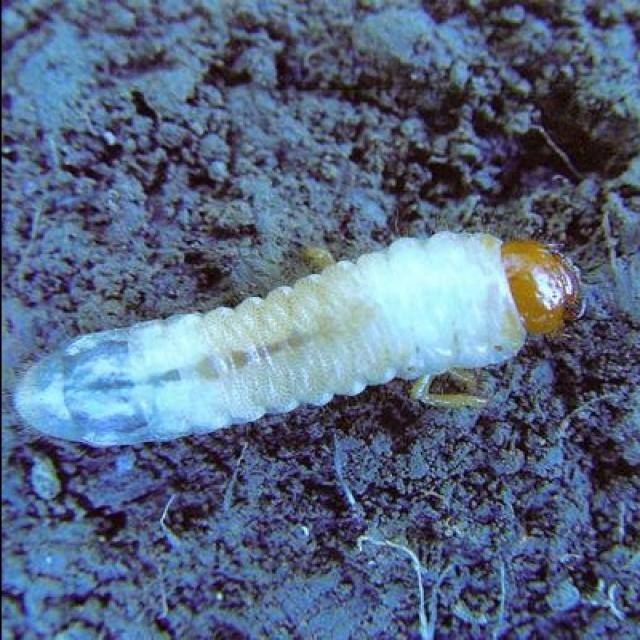grub: (19, 226, 579, 453)
